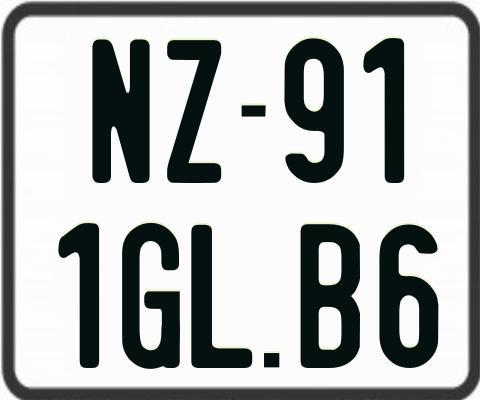1: (362, 37, 406, 185), (56, 220, 98, 366)
6: (379, 223, 443, 372)
9: (282, 37, 342, 183)
B: (301, 222, 361, 371)
G: (120, 222, 178, 369)
L: (191, 223, 255, 367)
N: (89, 37, 147, 185)
Z: (165, 39, 221, 183)
